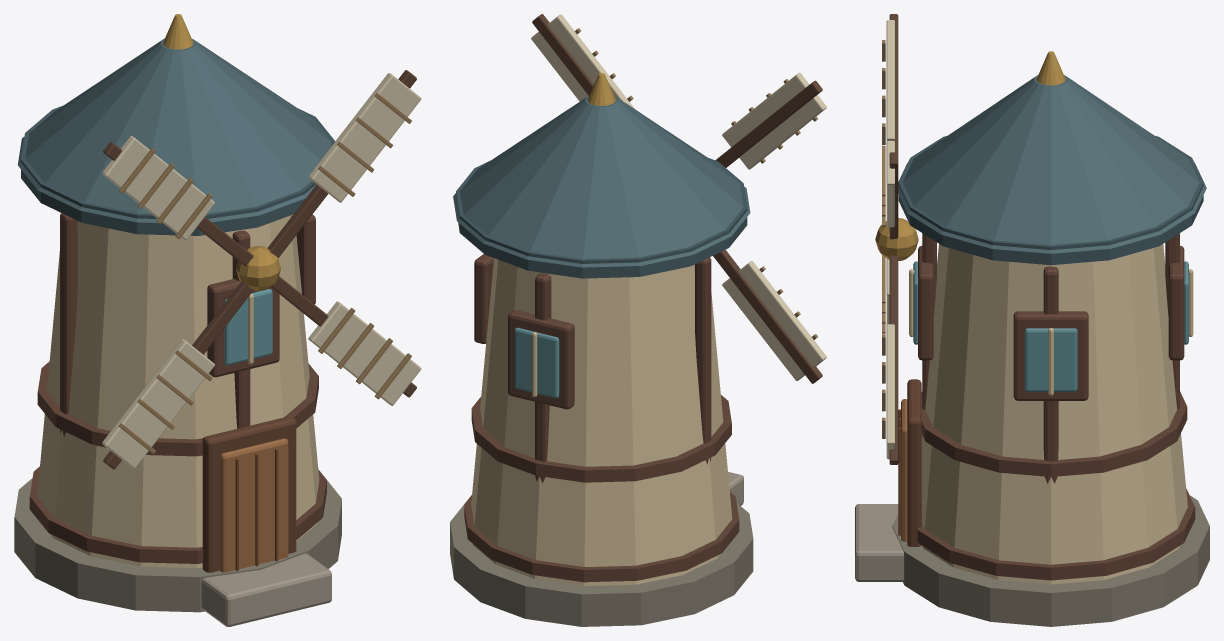
File: xingyin-environment-v1__farm_windmill.glb
3 renders of one model, left to right at view 1: azimuth 30°, elevation 25°; view 2: azimuth 150°, elevation 25°; view 3: azimuth 270°, elevation 25°, orthographic. The views are drawn at different scales.
Visible parts, largest first — view 1: farm_windmill; view 2: farm_windmill; view 3: farm_windmill.
Boxes of the visible parts, x1,y1,x2,y2 form: farm_windmill: [14, 14, 421, 626]; farm_windmill: [450, 14, 826, 626]; farm_windmill: [855, 14, 1209, 626].
Size of the model in its own units: 2.25 by 3.6 by 2.28.
